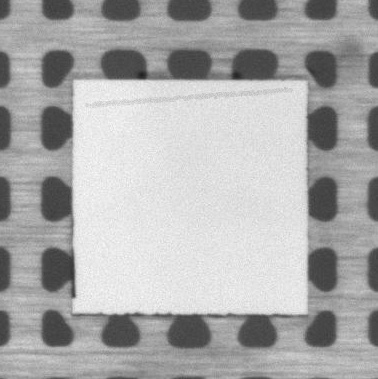DIE_CRACK: (87, 90, 291, 105)
